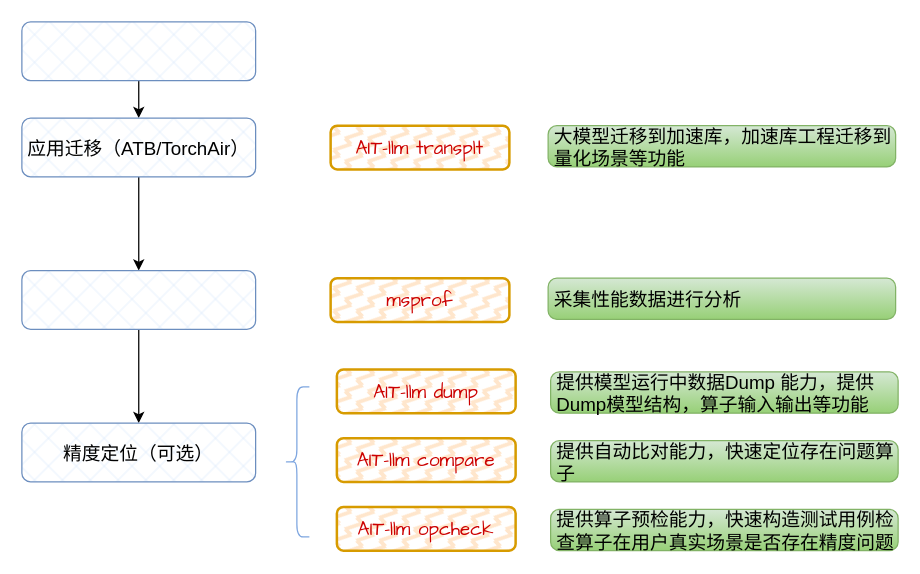
Image size: 920x574. Some labels were removed from this diagram. Here are the shapes that lost their labels. From the top down, the box of each, then its label:
(21, 21, 256, 81): GPU 在线推理
(21, 269, 256, 329): 性能调优（可选）
